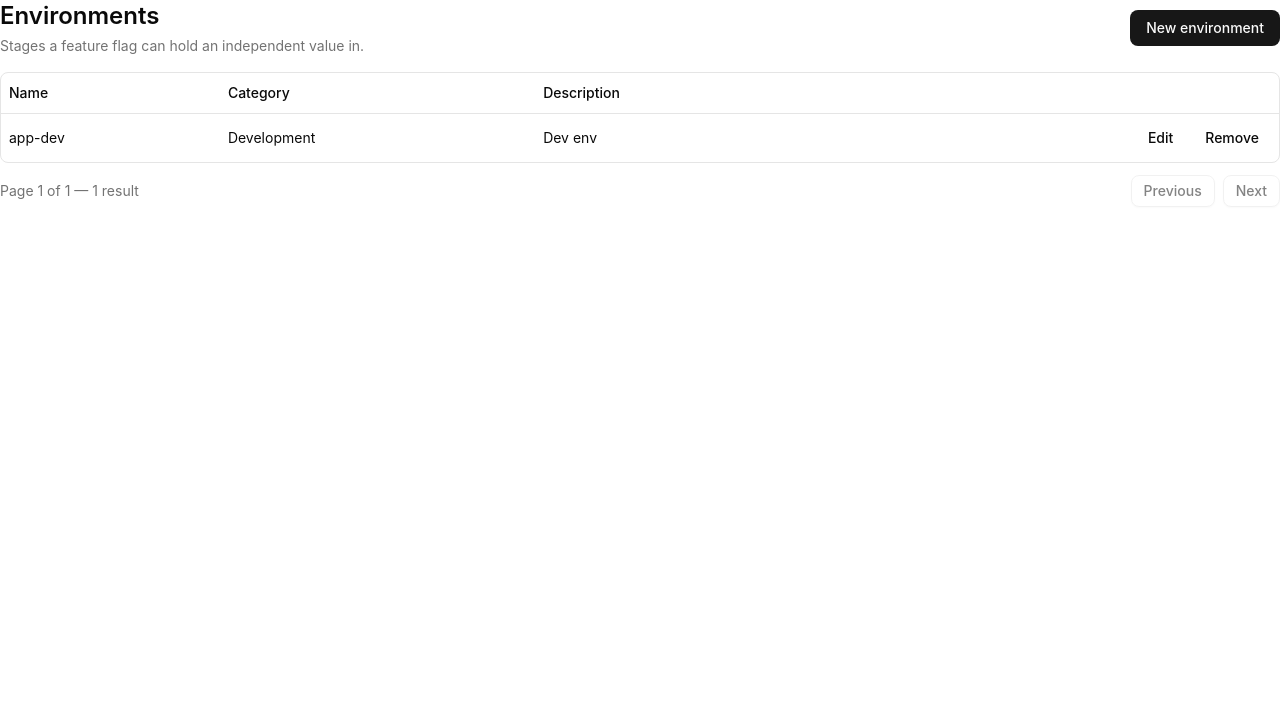
EnvironmentsPage › opens the create form from "New environment" and the edit form from a row's Edit button
Click the button "New environment" at (1205, 28), box [1130,10,1279,46]
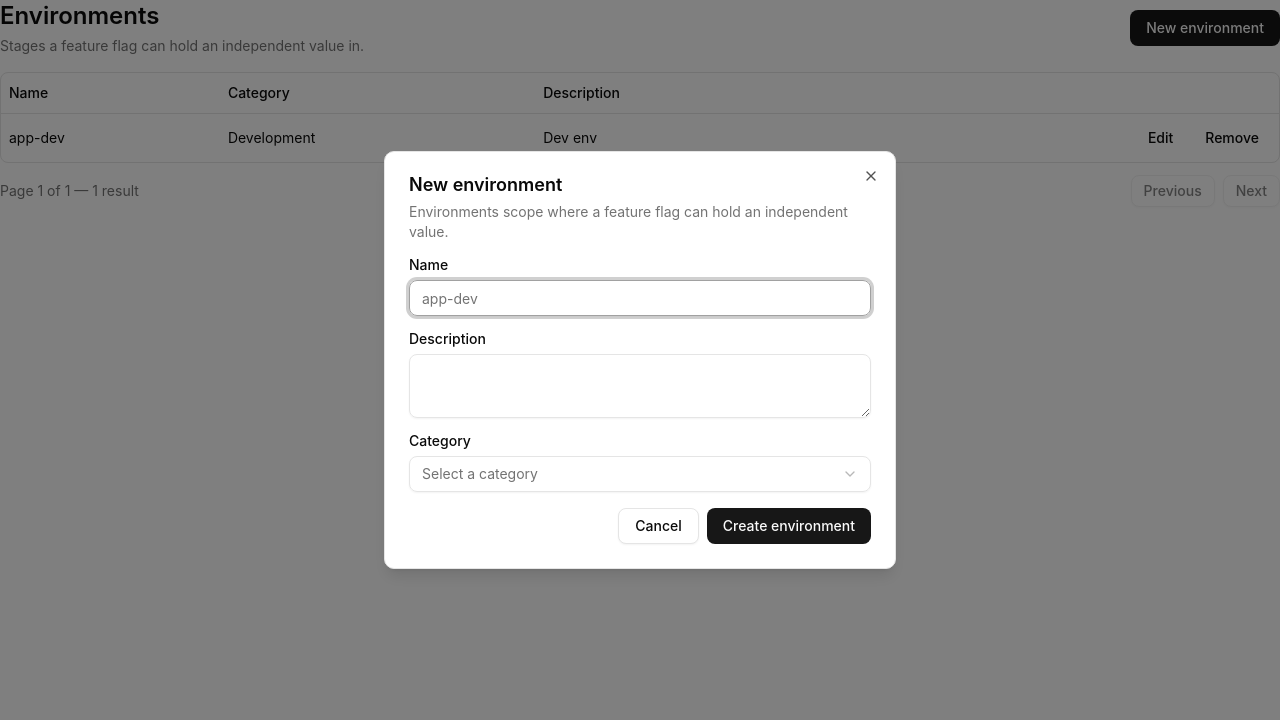
Now the heading "New environment" is shown, box [409,174,562,195]
Click the button "Cancel" at (659, 526), box [618,508,699,544]
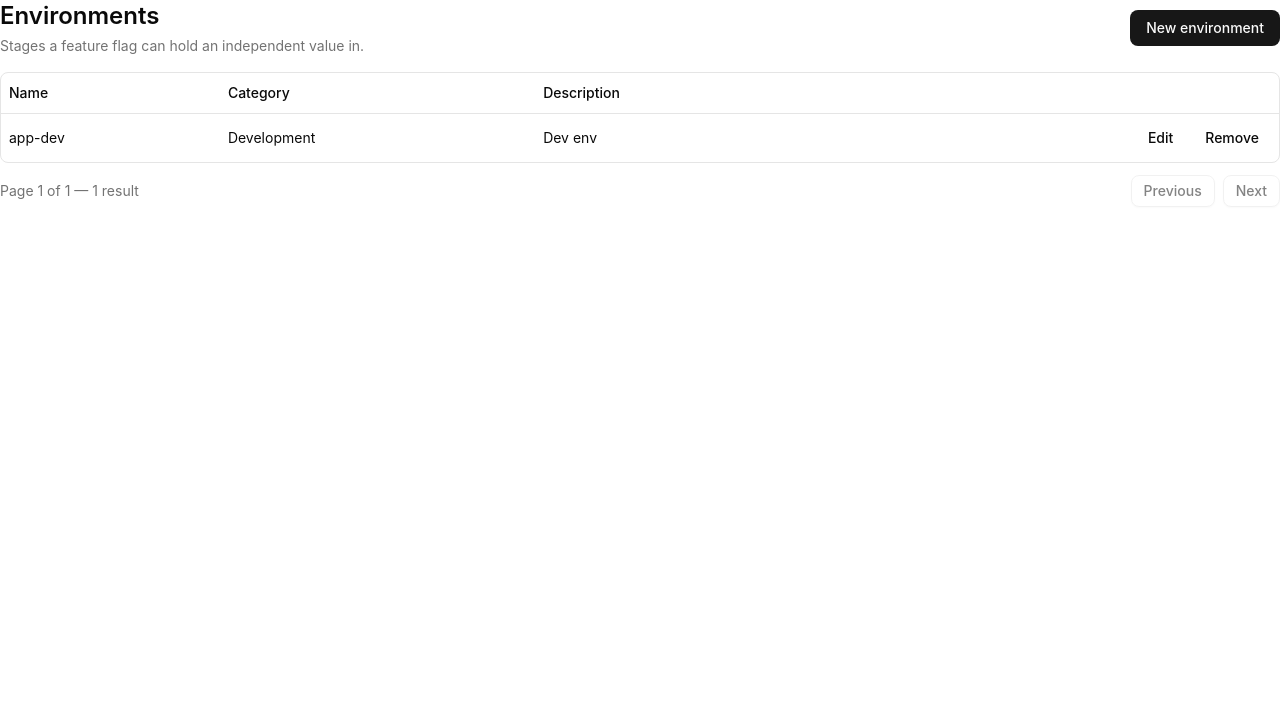
Expected: the text "app-dev" is shown, [1,113,220,162]
Click the button "Edit" at (1161, 138), box [1136,122,1185,154]
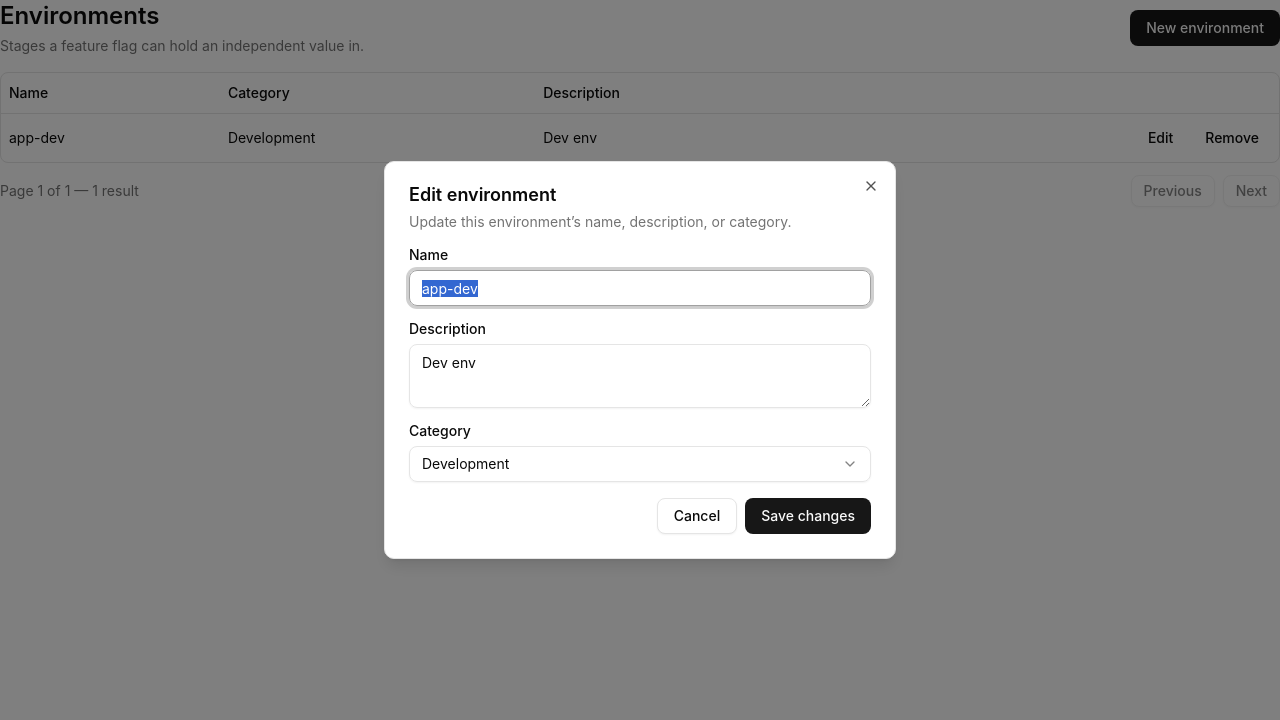
Now the heading "Edit environment" is shown, box [409,184,556,205]
Now the field showing "app-dev" is shown, box [409,270,871,306]
